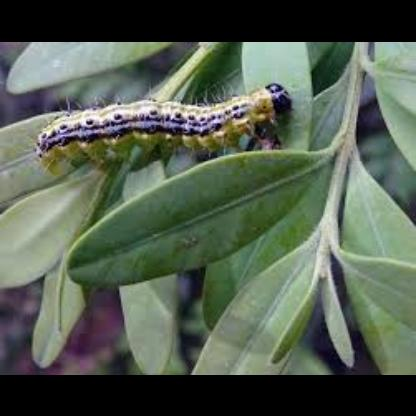oruga: (32, 69, 302, 183)
